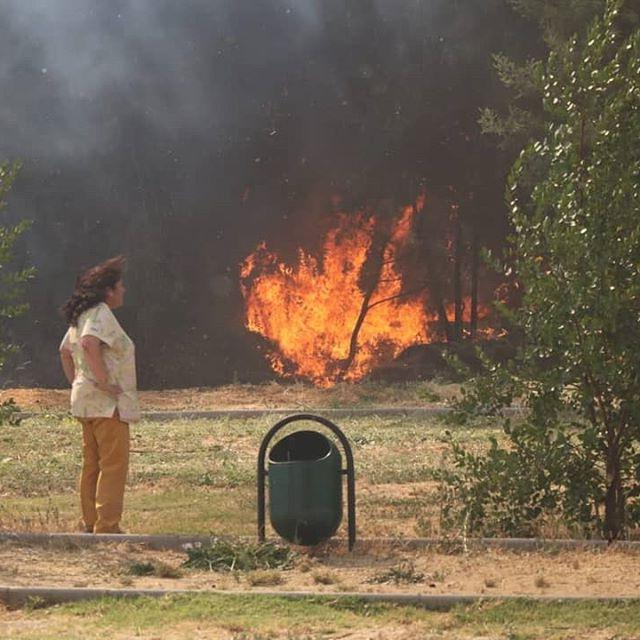fire: (234, 187, 443, 395)
